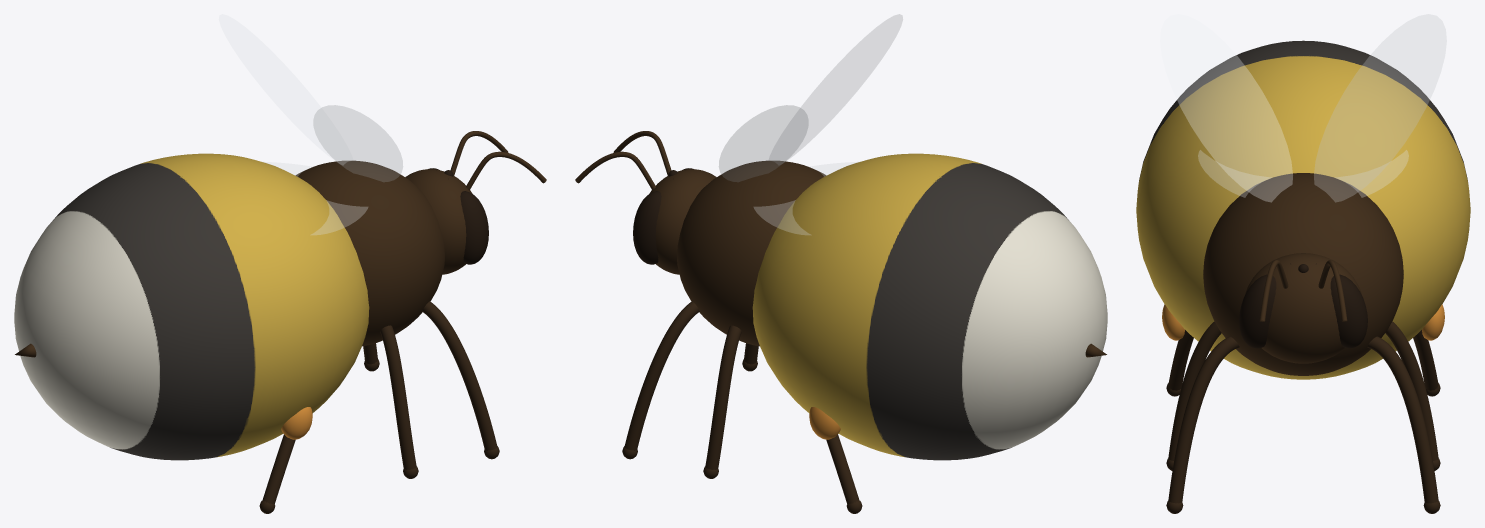
The model's file is bee-hero-bombus-low.glb.
3 renders of one model, left to right at view 1: azimuth 30°, elevation 25°; view 2: azimuth 150°, elevation 25°; view 3: azimuth 270°, elevation 25°, orthographic. The views are drawn at different scales.
Parts seen in each view (by area): view 1: abdomen, thorax, foreWingL, foreWingR, head, foreLegR, midLegR, compoundEyeR, hindLegR, hindWingR, pollen_R, antennaR; view 2: abdomen, thorax, foreWingR, foreWingL, head, foreLegL, midLegL, compoundEyeL, hindLegL, hindWingL, pollen_L, antennaL; view 3: abdomen, thorax, foreWingL, foreWingR, head, foreLegL, foreLegR, compoundEyeL, compoundEyeR, midLegL, midLegR, hindWingL (+7 smaller).
Part boxes in pixels (x1,y1,x2,y2): abdomen: (14,153,369,460); thorax: (295,160,444,346); foreWingL: (219,14,352,164); foreWingR: (313,105,402,181); head: (405,169,472,274); foreLegR: (422,301,497,450); midLegR: (380,325,416,469); compoundEyeR: (460,191,488,264); hindLegR: (262,434,295,504); hindWingR: (311,200,367,234); pollen_R: (281,407,312,439); antennaR: (466,151,546,190); abdomen: (752,153,1107,460); thorax: (677,160,826,346); foreWingR: (769,14,902,164); foreWingL: (719,105,808,181); head: (649,169,716,274); foreLegL: (624,301,699,450); midLegL: (705,325,741,469); compoundEyeL: (633,191,661,264); hindLegL: (826,434,859,504); hindWingL: (754,200,810,234); pollen_L: (809,407,840,439); antennaL: (575,151,655,190); abdomen: (1136,40,1470,379); thorax: (1203,173,1403,375); foreWingL: (1314,14,1446,202); foreWingR: (1160,14,1292,202); head: (1245,253,1361,363); foreLegL: (1367,336,1438,503); foreLegR: (1168,336,1239,503); compoundEyeL: (1330,274,1367,348); compoundEyeR: (1239,274,1276,348); midLegL: (1385,321,1438,460); midLegR: (1168,321,1221,460); hindWingL: (1337,150,1408,197).
Size of the model in its own units: 1.33 by 0.9698 by 0.702.
6 materials, 1 textured.
